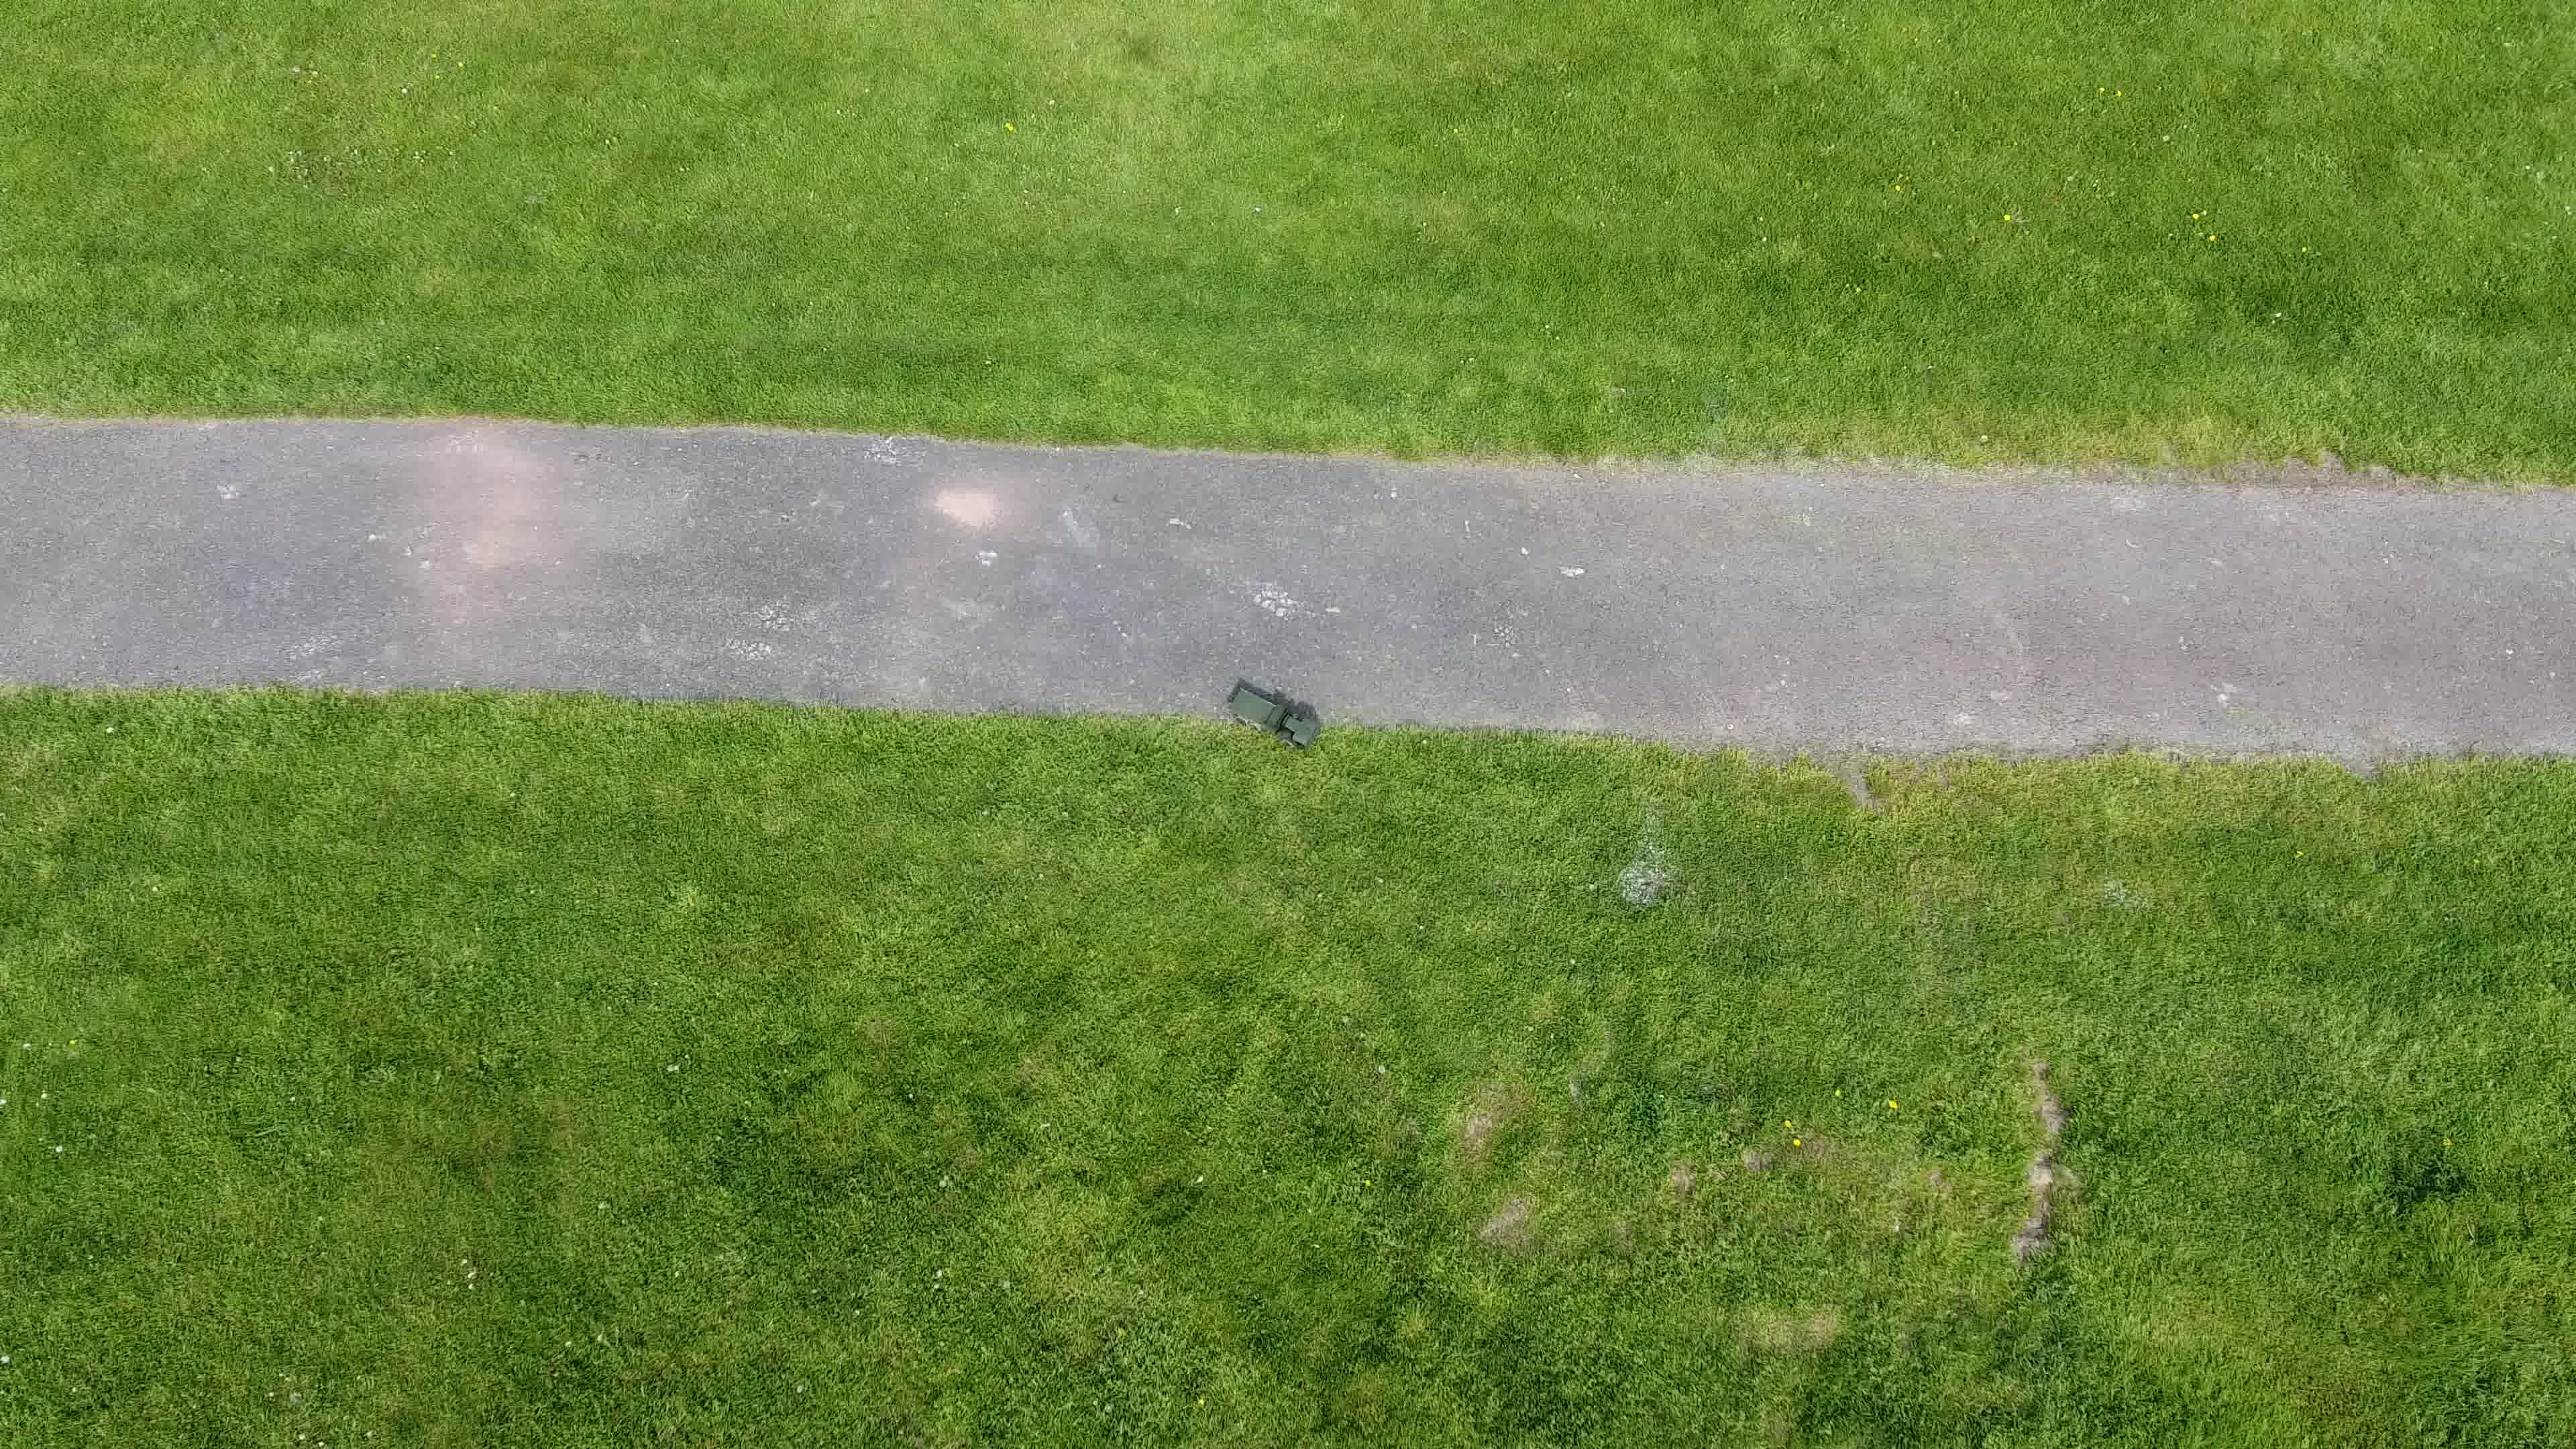transporter9: (1224, 686, 1323, 750)
